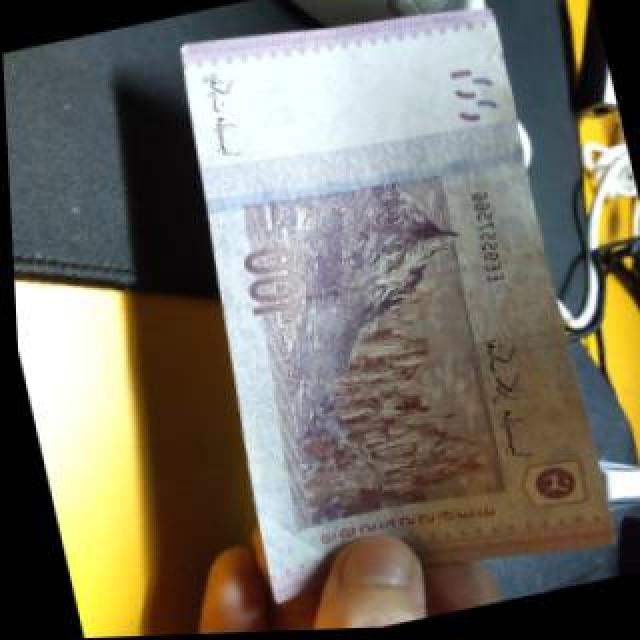100 Ringgit: (148, 0, 614, 636)
